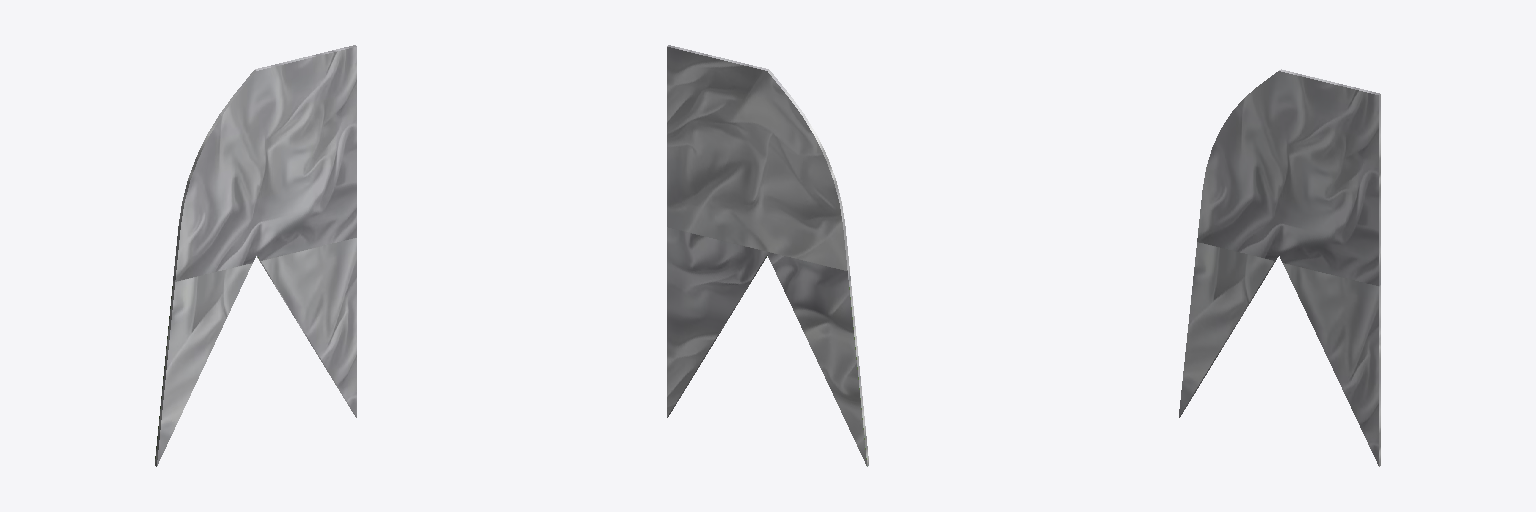
The picture shows the model from 3 angles: view 1: azimuth 30°, elevation 25°; view 2: azimuth 150°, elevation 25°; view 3: azimuth 330°, elevation 25°; orthographic projection.
Parts seen in each view (by area): view 1: Bandera_pCube1; view 2: Bandera_pCube1; view 3: Bandera_pCube1.
Boxes of the visible parts, box(x1,y1,x2,y2) form: Bandera_pCube1: box(155, 45, 356, 466); Bandera_pCube1: box(667, 45, 868, 466); Bandera_pCube1: box(1179, 69, 1380, 466).
Size of the model in its own units: 0.9478 by 1.68 by 0.0182.
Materials: 1 (1 with a texture image).